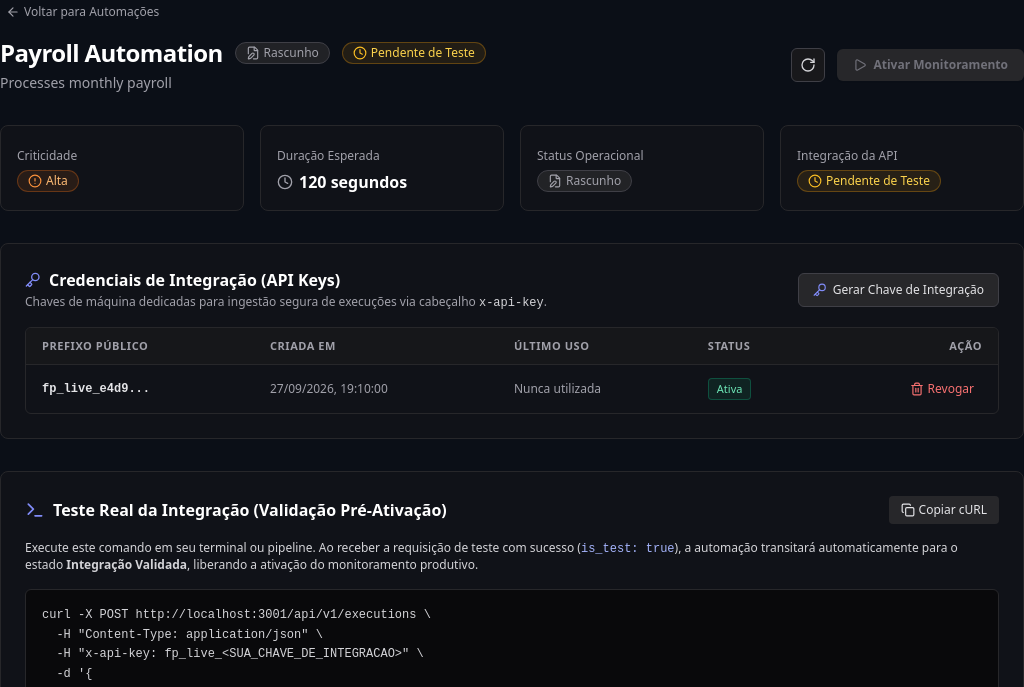
AutomationDetailView Component › should allow ADMIN to revoke active key
This screenshot has width=1024, height=687.
Click the button with test id "revoke-key-button-key-1". click: (942, 389)
box: [902,377,982,401]
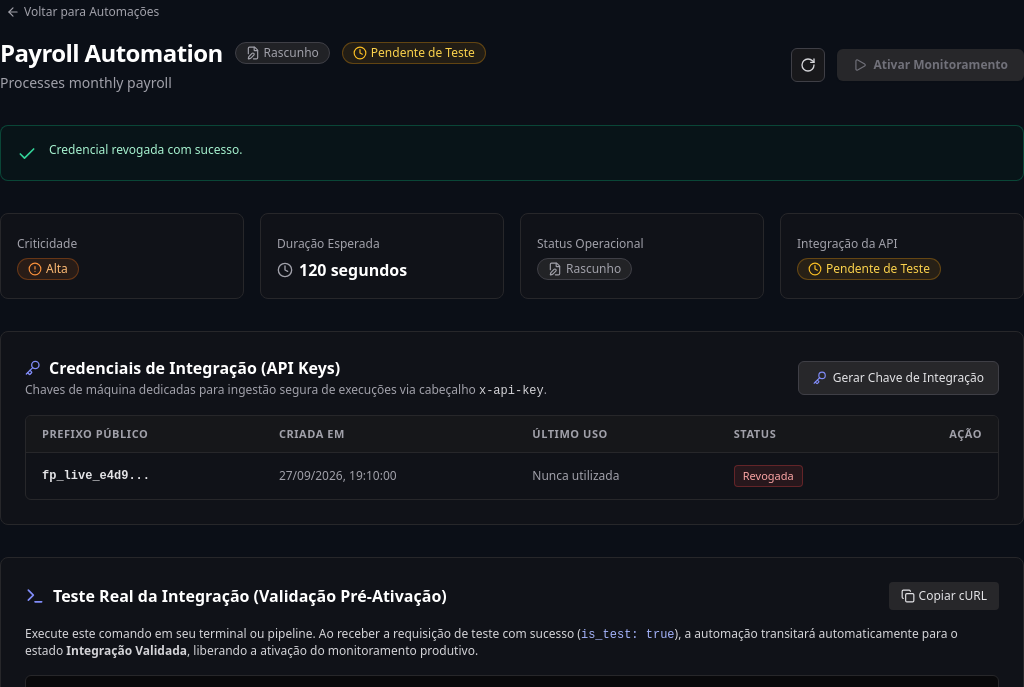
Now the text "Revogada" is shown, box [734,465,803,487]
